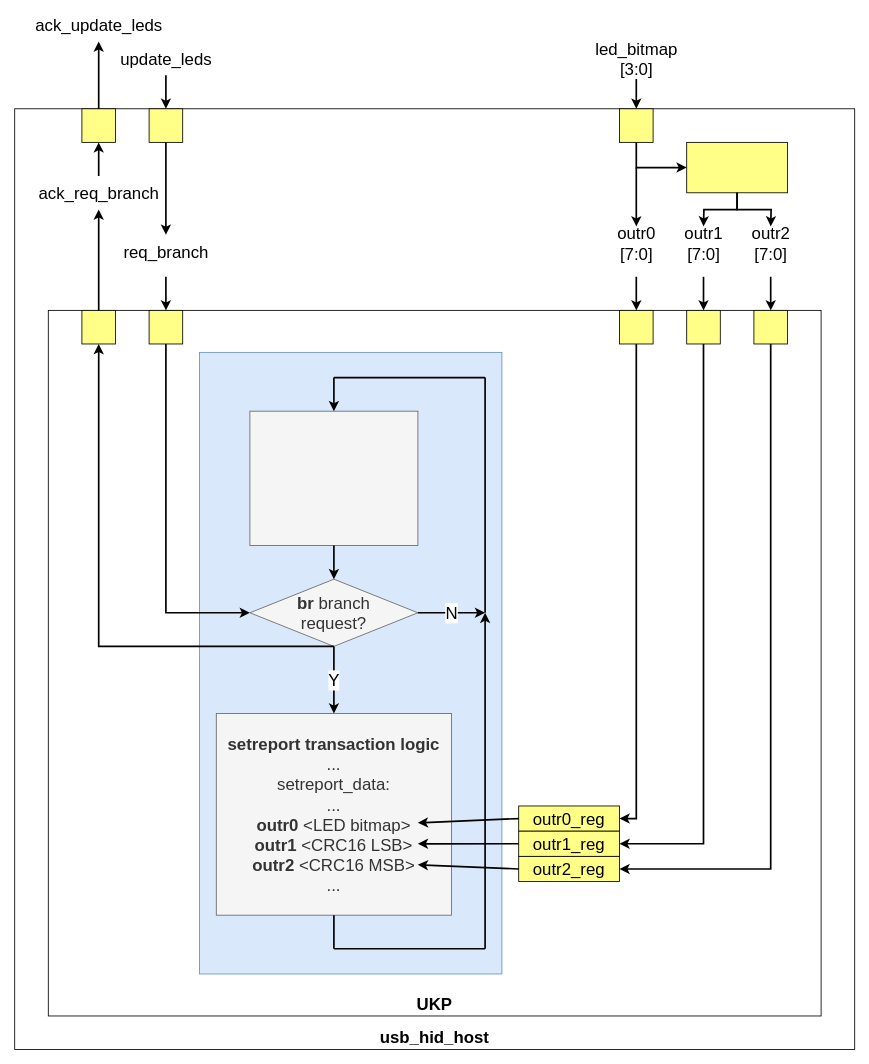
Some shapes in this 869 by 1064 pixel diagram are drawn without their labels. The shapes that lost their labels are listed below. From the top down, each one's box as (x1, y1, x2, y2) in pixels, then its label:
(686, 142, 788, 193): CRC16 LUT
(249, 410, 418, 546): Original UKP USB device detection/enumeration firmware loop
(199, 352, 502, 974): UKP firmware
